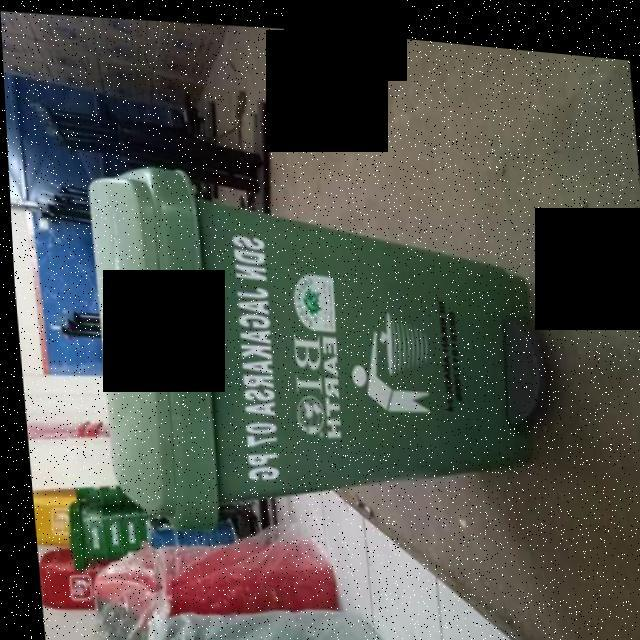bin: (62, 132, 554, 574)
